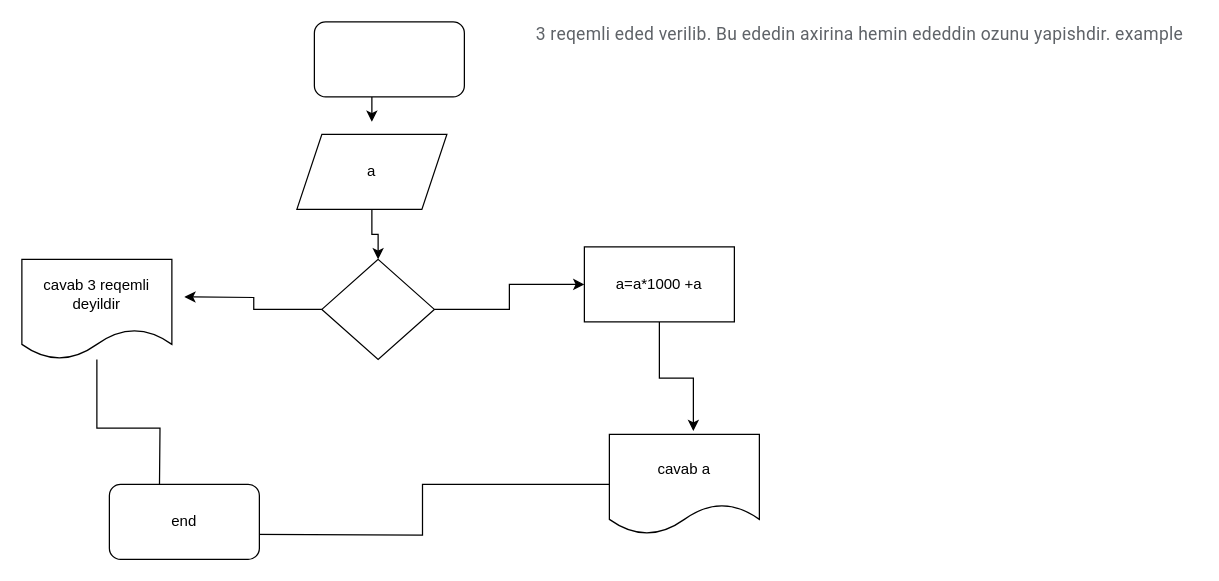
Some shapes in this 1219 by 581 pixel diagram are drawn without their labels. Each missing label, with the centre of its shape:
a>=100 a<1000: (x=377, y=308)
start: (x=388, y=59)
